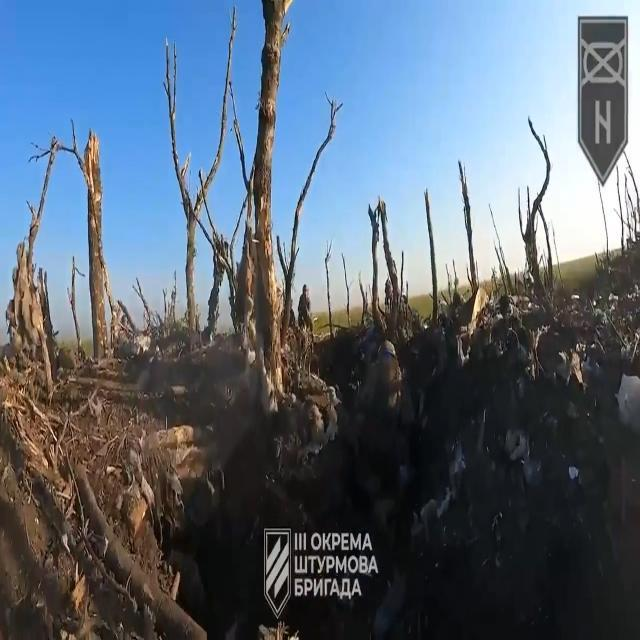MIL_Pax: (359, 340, 415, 530), (298, 284, 314, 333), (385, 278, 392, 311)
